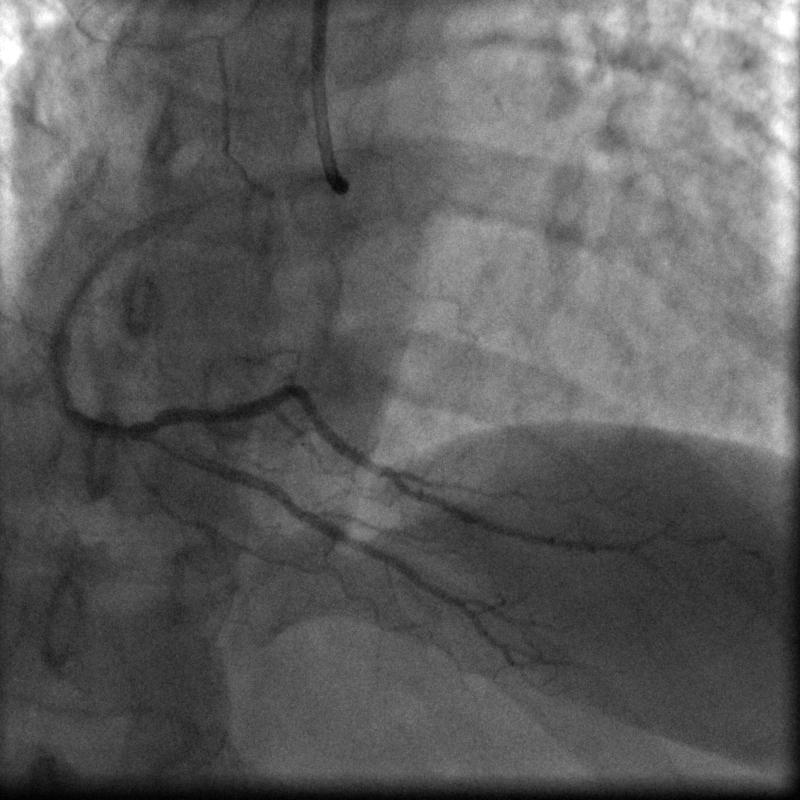Stenosis: (107, 412, 141, 445)
